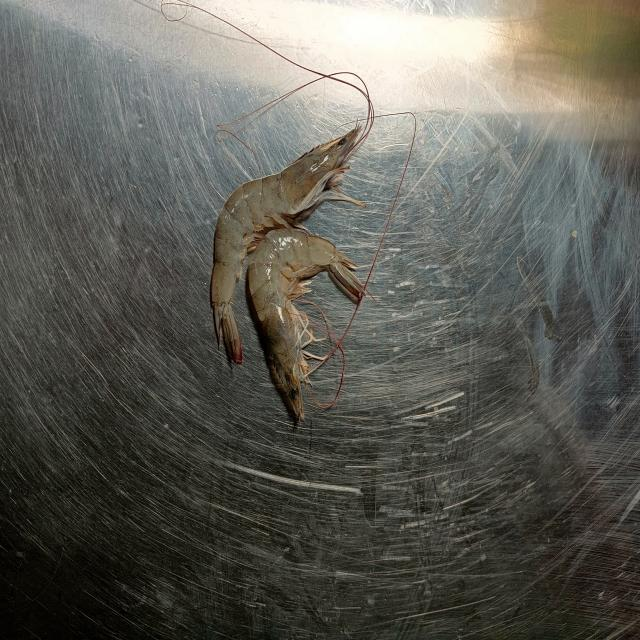shrimp: (211, 126, 362, 364), (249, 229, 362, 423)
